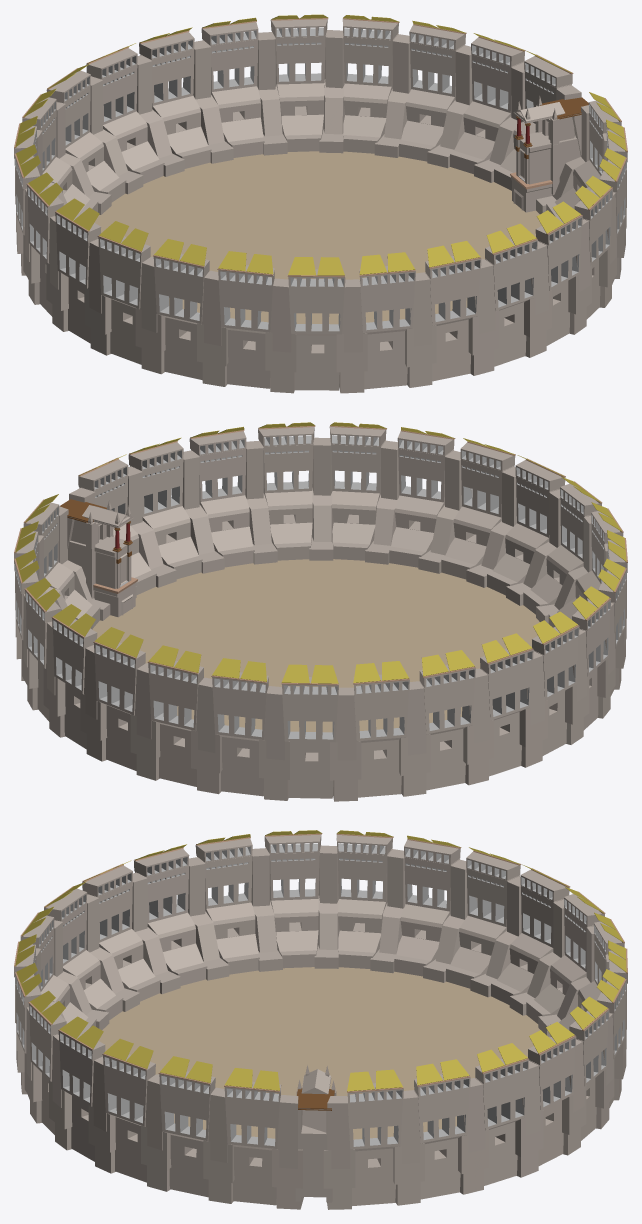
File: Arena.fbx
3 renders of one model, top to bottom at view 1: azimuth 30°, elevation 25°; view 2: azimuth 150°, elevation 25°; view 3: azimuth 270°, elevation 25°, orthographic.
Visible parts, largest first — view 1: Arena, Ground; view 2: Arena, Ground; view 3: Arena, Ground.
Boxes of the visible parts, <box> form: Arena: <box>14,14,627,393</box>; Ground: <box>94,151,541,324</box>; Arena: <box>14,422,627,801</box>; Ground: <box>92,559,539,732</box>; Arena: <box>14,830,627,1209</box>; Ground: <box>98,967,550,1139</box>.
Size of the model in its own units: 4256 by 1013 by 4257.
